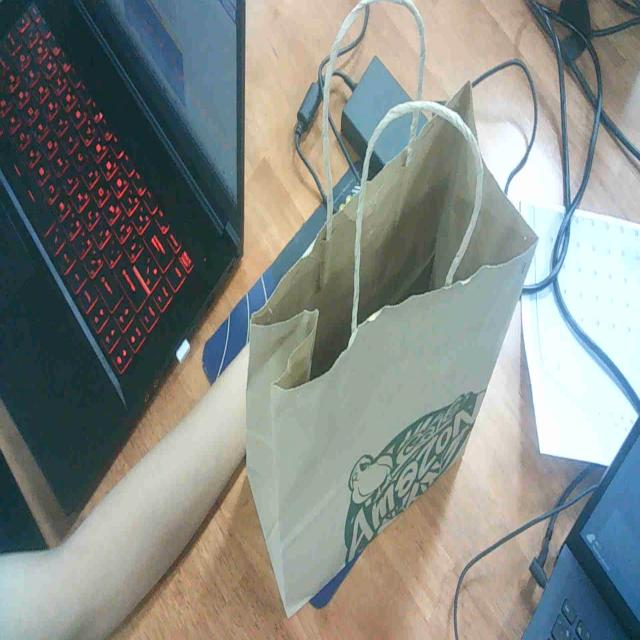bag: (227, 54, 553, 640)
